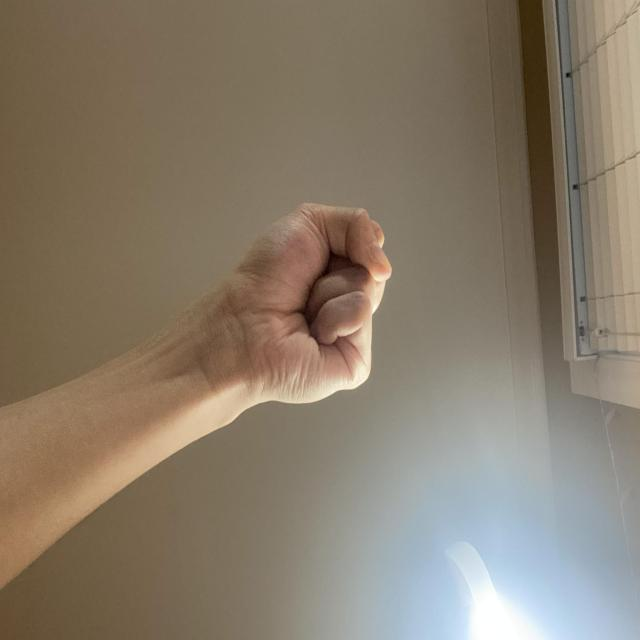S: (305, 329, 467, 546)
